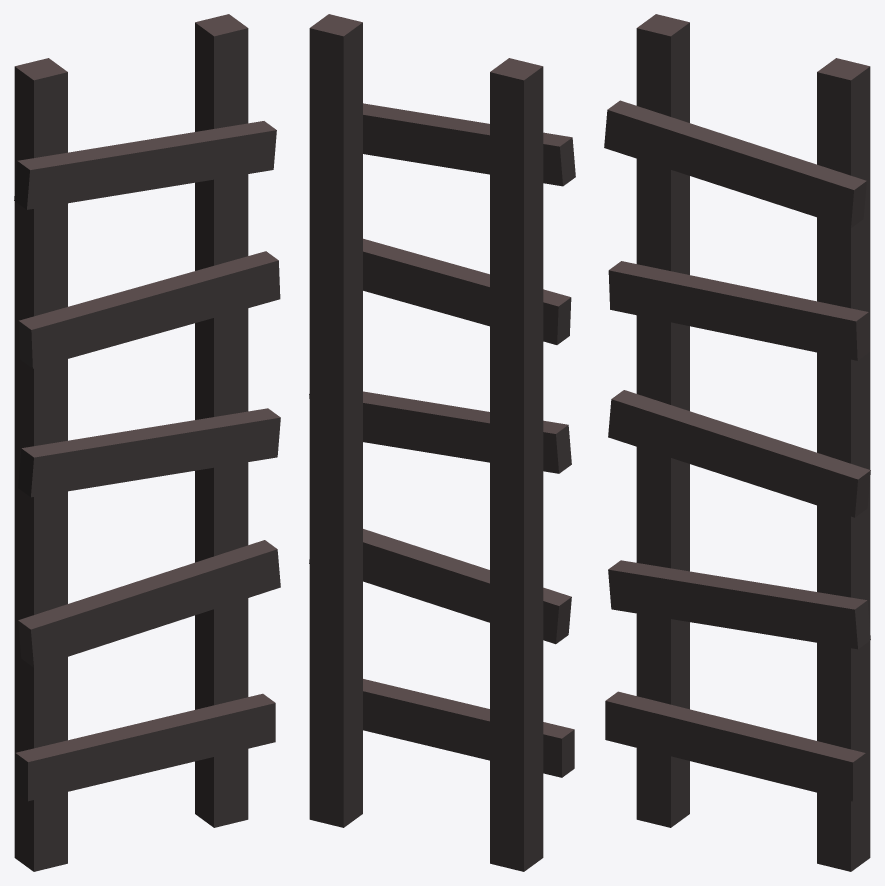
File: TB_D_Prop_Ladder_C.FBX
3 views of the same model, side by side, from view 1: azimuth 30°, elevation 25°; view 2: azimuth 150°, elevation 25°; view 3: azimuth 330°, elevation 25° (orthographic).
Parts seen in each view (by area): view 1: TB_D_Prop_Ladder_C; view 2: TB_D_Prop_Ladder_C; view 3: TB_D_Prop_Ladder_C.
Part boxes in pixels (<box>): TB_D_Prop_Ladder_C: <box>14,14,280,871</box>; TB_D_Prop_Ladder_C: <box>309,14,575,871</box>; TB_D_Prop_Ladder_C: <box>604,14,870,871</box>.
Bounding box in the file's own units: 1.13 × 3.38 × 0.248.
